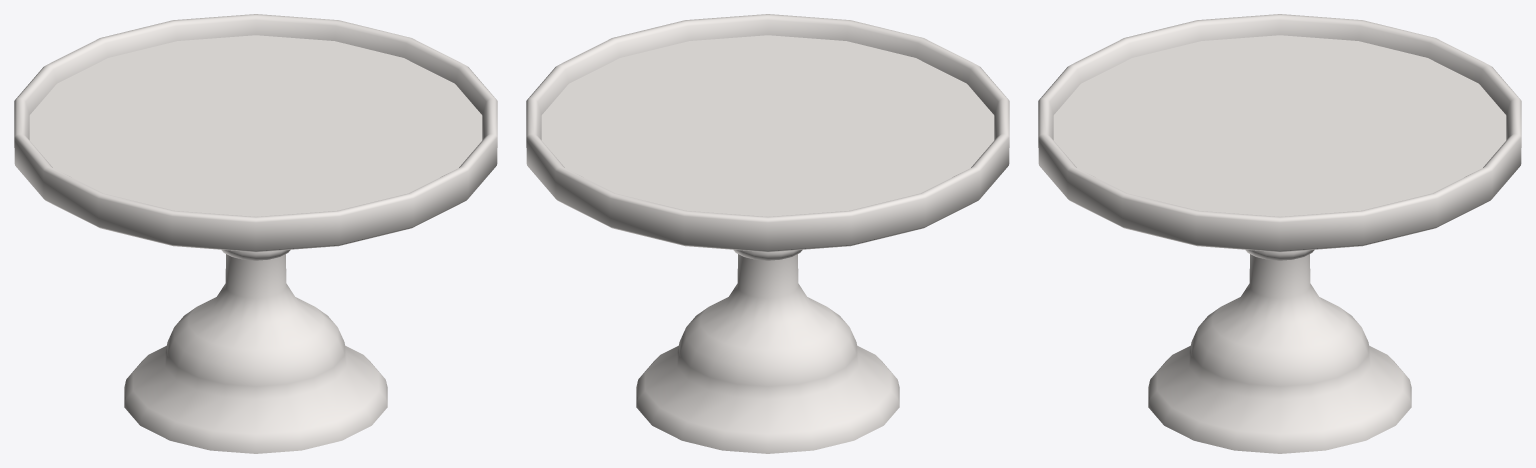
File: BuffetDesserts02_12.FBX
3 views of the same model, side by side, from view 1: azimuth 30°, elevation 25°; view 2: azimuth 150°, elevation 25°; view 3: azimuth 270°, elevation 25° (orthographic).
Parts seen in each view (by area): view 1: BuffetDesserts02_12; view 2: BuffetDesserts02_12; view 3: BuffetDesserts02_12.
Part boxes in pixels (x1=…): BuffetDesserts02_12: x1=14, y1=14, x2=497, y2=453; BuffetDesserts02_12: x1=526, y1=14, x2=1009, y2=453; BuffetDesserts02_12: x1=1038, y1=14, x2=1521, y2=453.
Size of what is drawn, in the model's own units: 0.3291 by 0.2079 by 0.3241.
